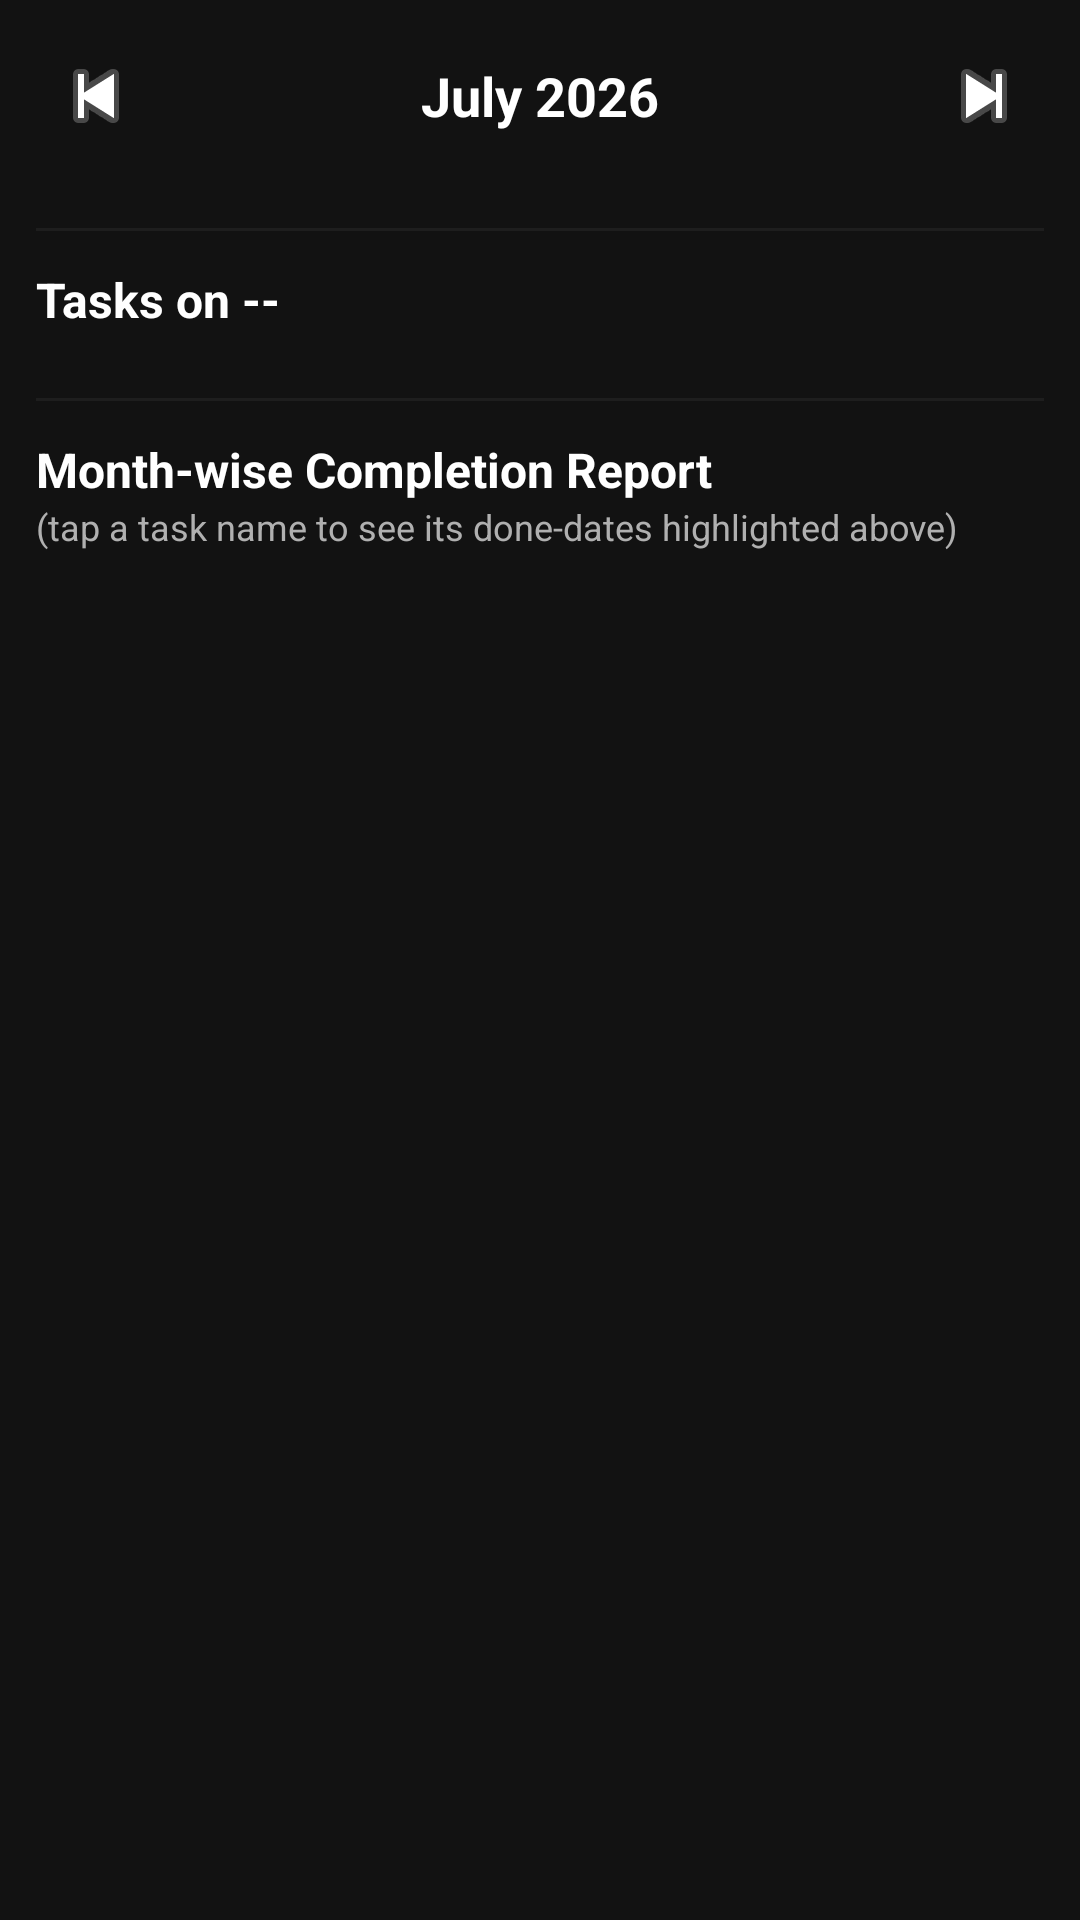

Icon click points for this 1080w x 1920h phone screenshot, format point (x, y):
Next month: point (984, 96)
Previous month: point (96, 96)
